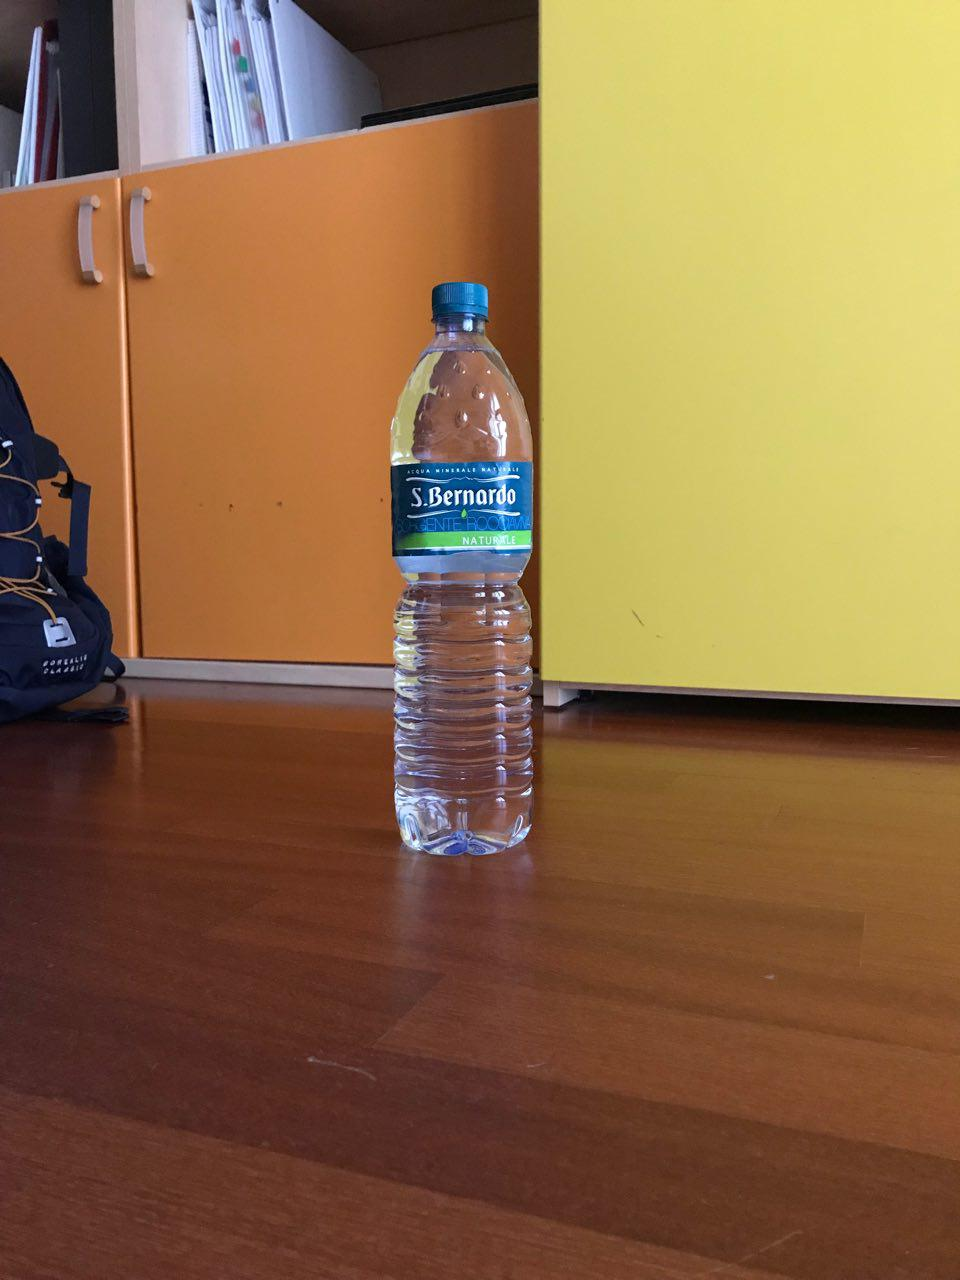san_bernardo: (387, 279, 539, 859)
